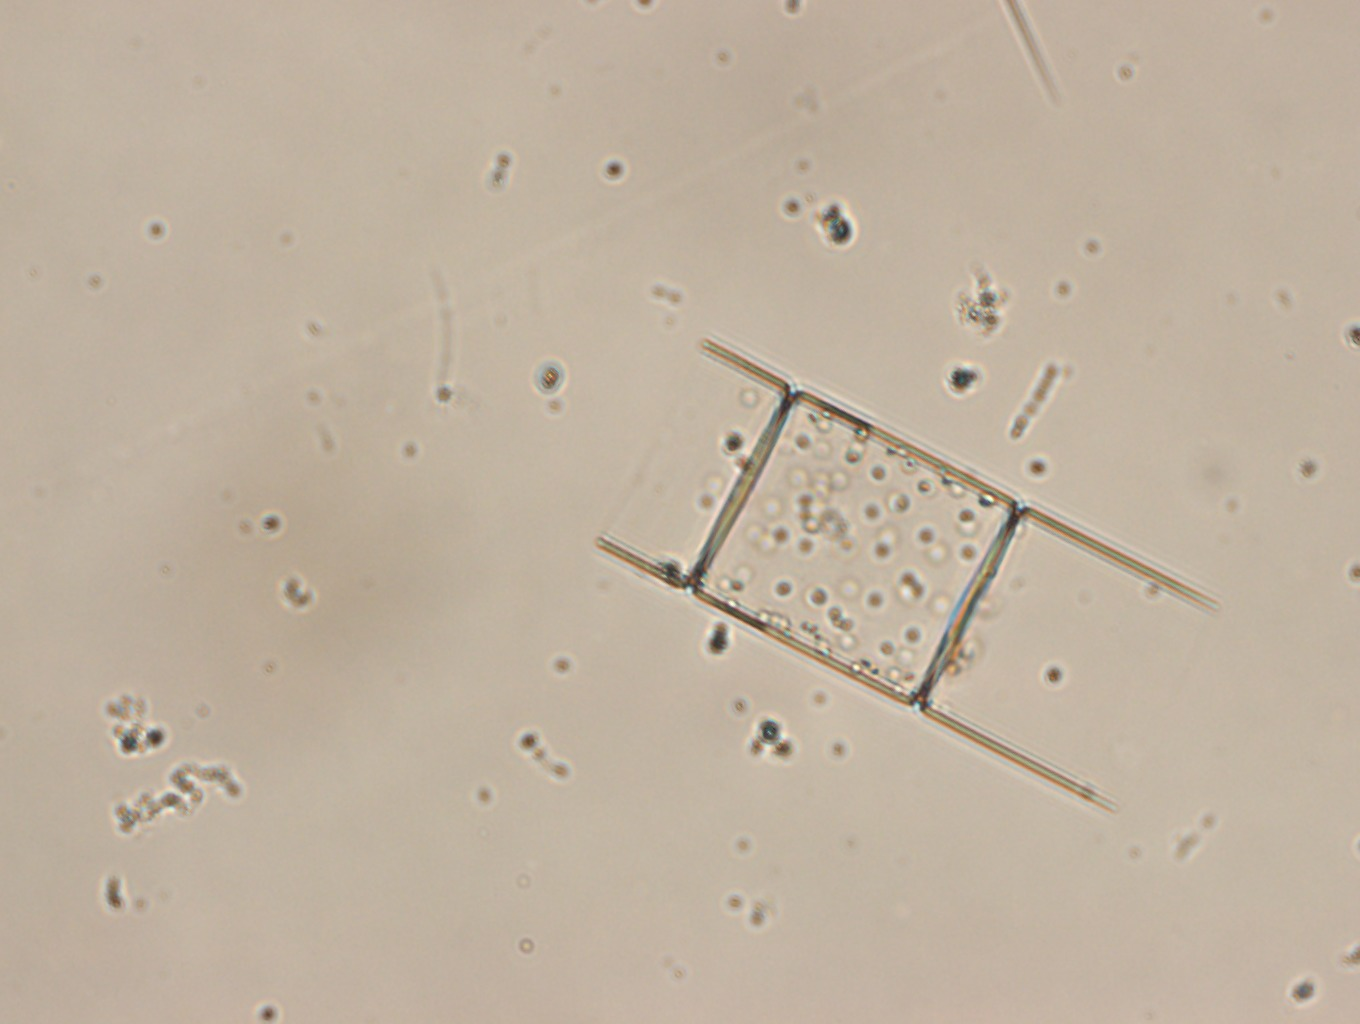guinardia flaccida: (589, 318, 1223, 817)
